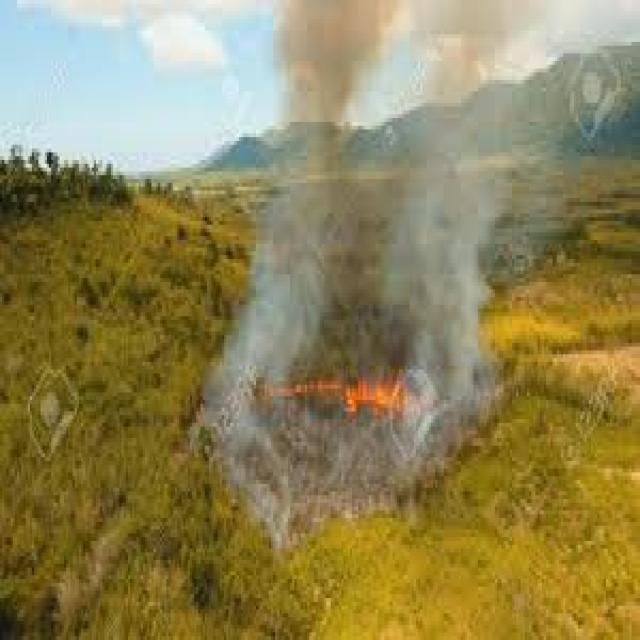Smoke: (218, 0, 514, 523)
